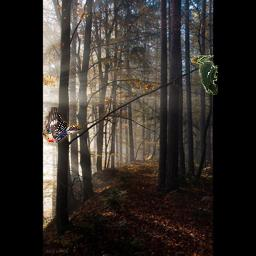Woodpecker: (42, 107, 82, 143), (191, 55, 218, 95)
